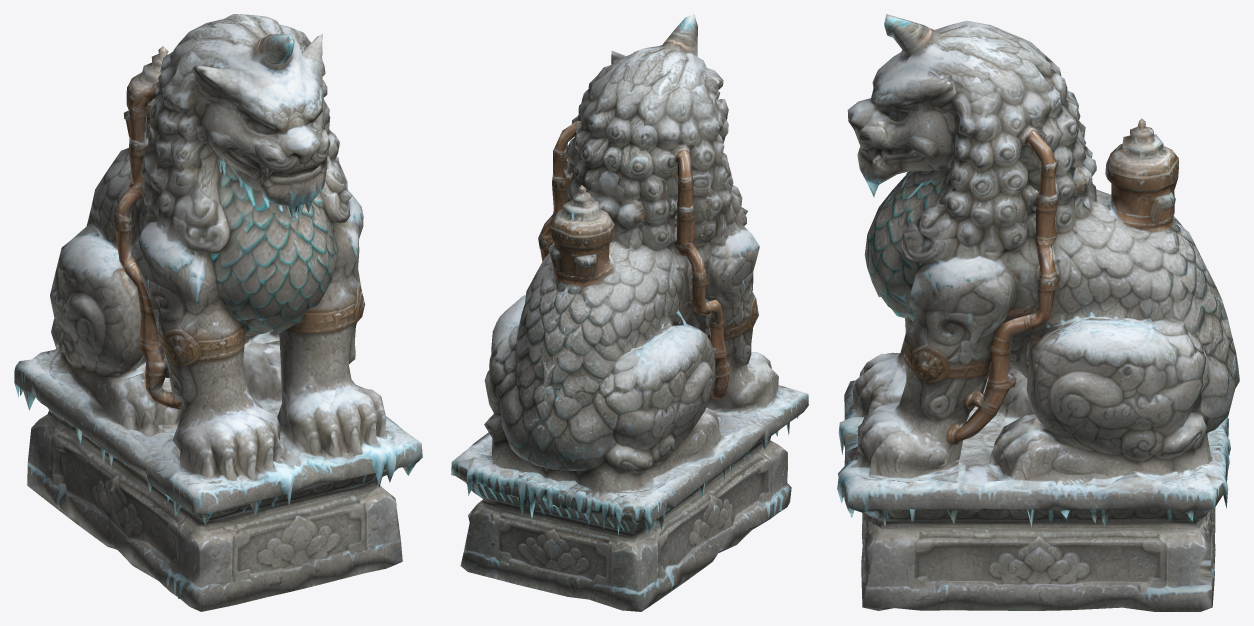
File: PR_Haetae_02.fbx
3 renders of one model, left to right at view 1: azimuth 30°, elevation 25°; view 2: azimuth 150°, elevation 25°; view 3: azimuth 270°, elevation 25°, orthographic. The views are drawn at different scales.
Visible parts, largest first — view 1: texture_mapping; view 2: texture_mapping; view 3: texture_mapping.
Part boxes in pixels (bbox=[...]): texture_mapping: bbox=[14, 14, 422, 611]; texture_mapping: bbox=[451, 14, 808, 611]; texture_mapping: bbox=[837, 14, 1239, 611].
Size of the model in its own units: 0.4425 by 0.6678 by 1.
1 material, 1 textured.
